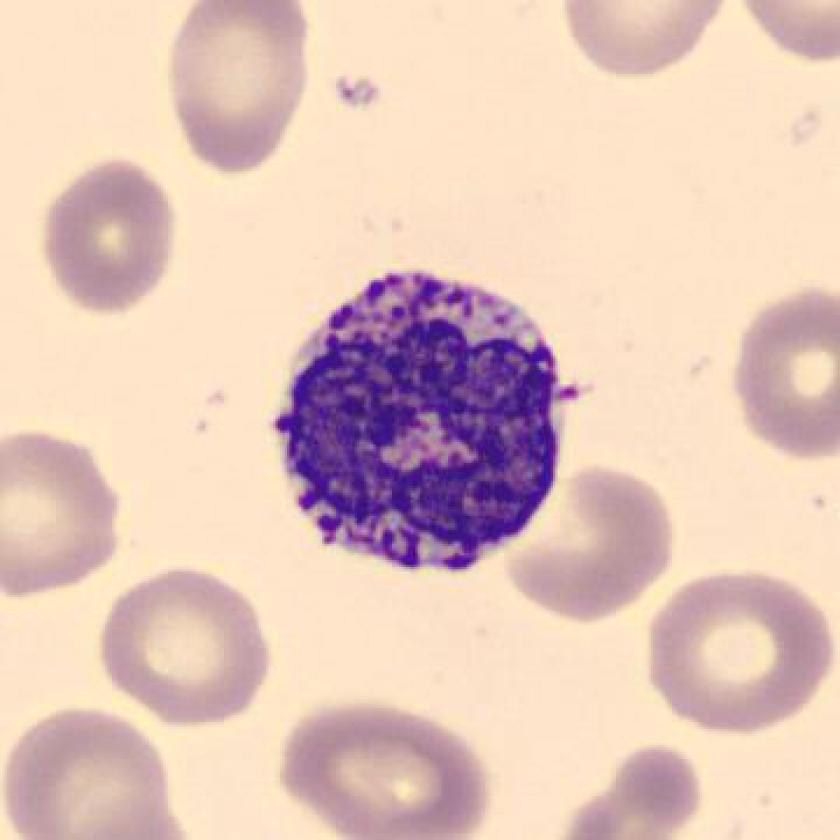basophil: (272, 258, 575, 572)
